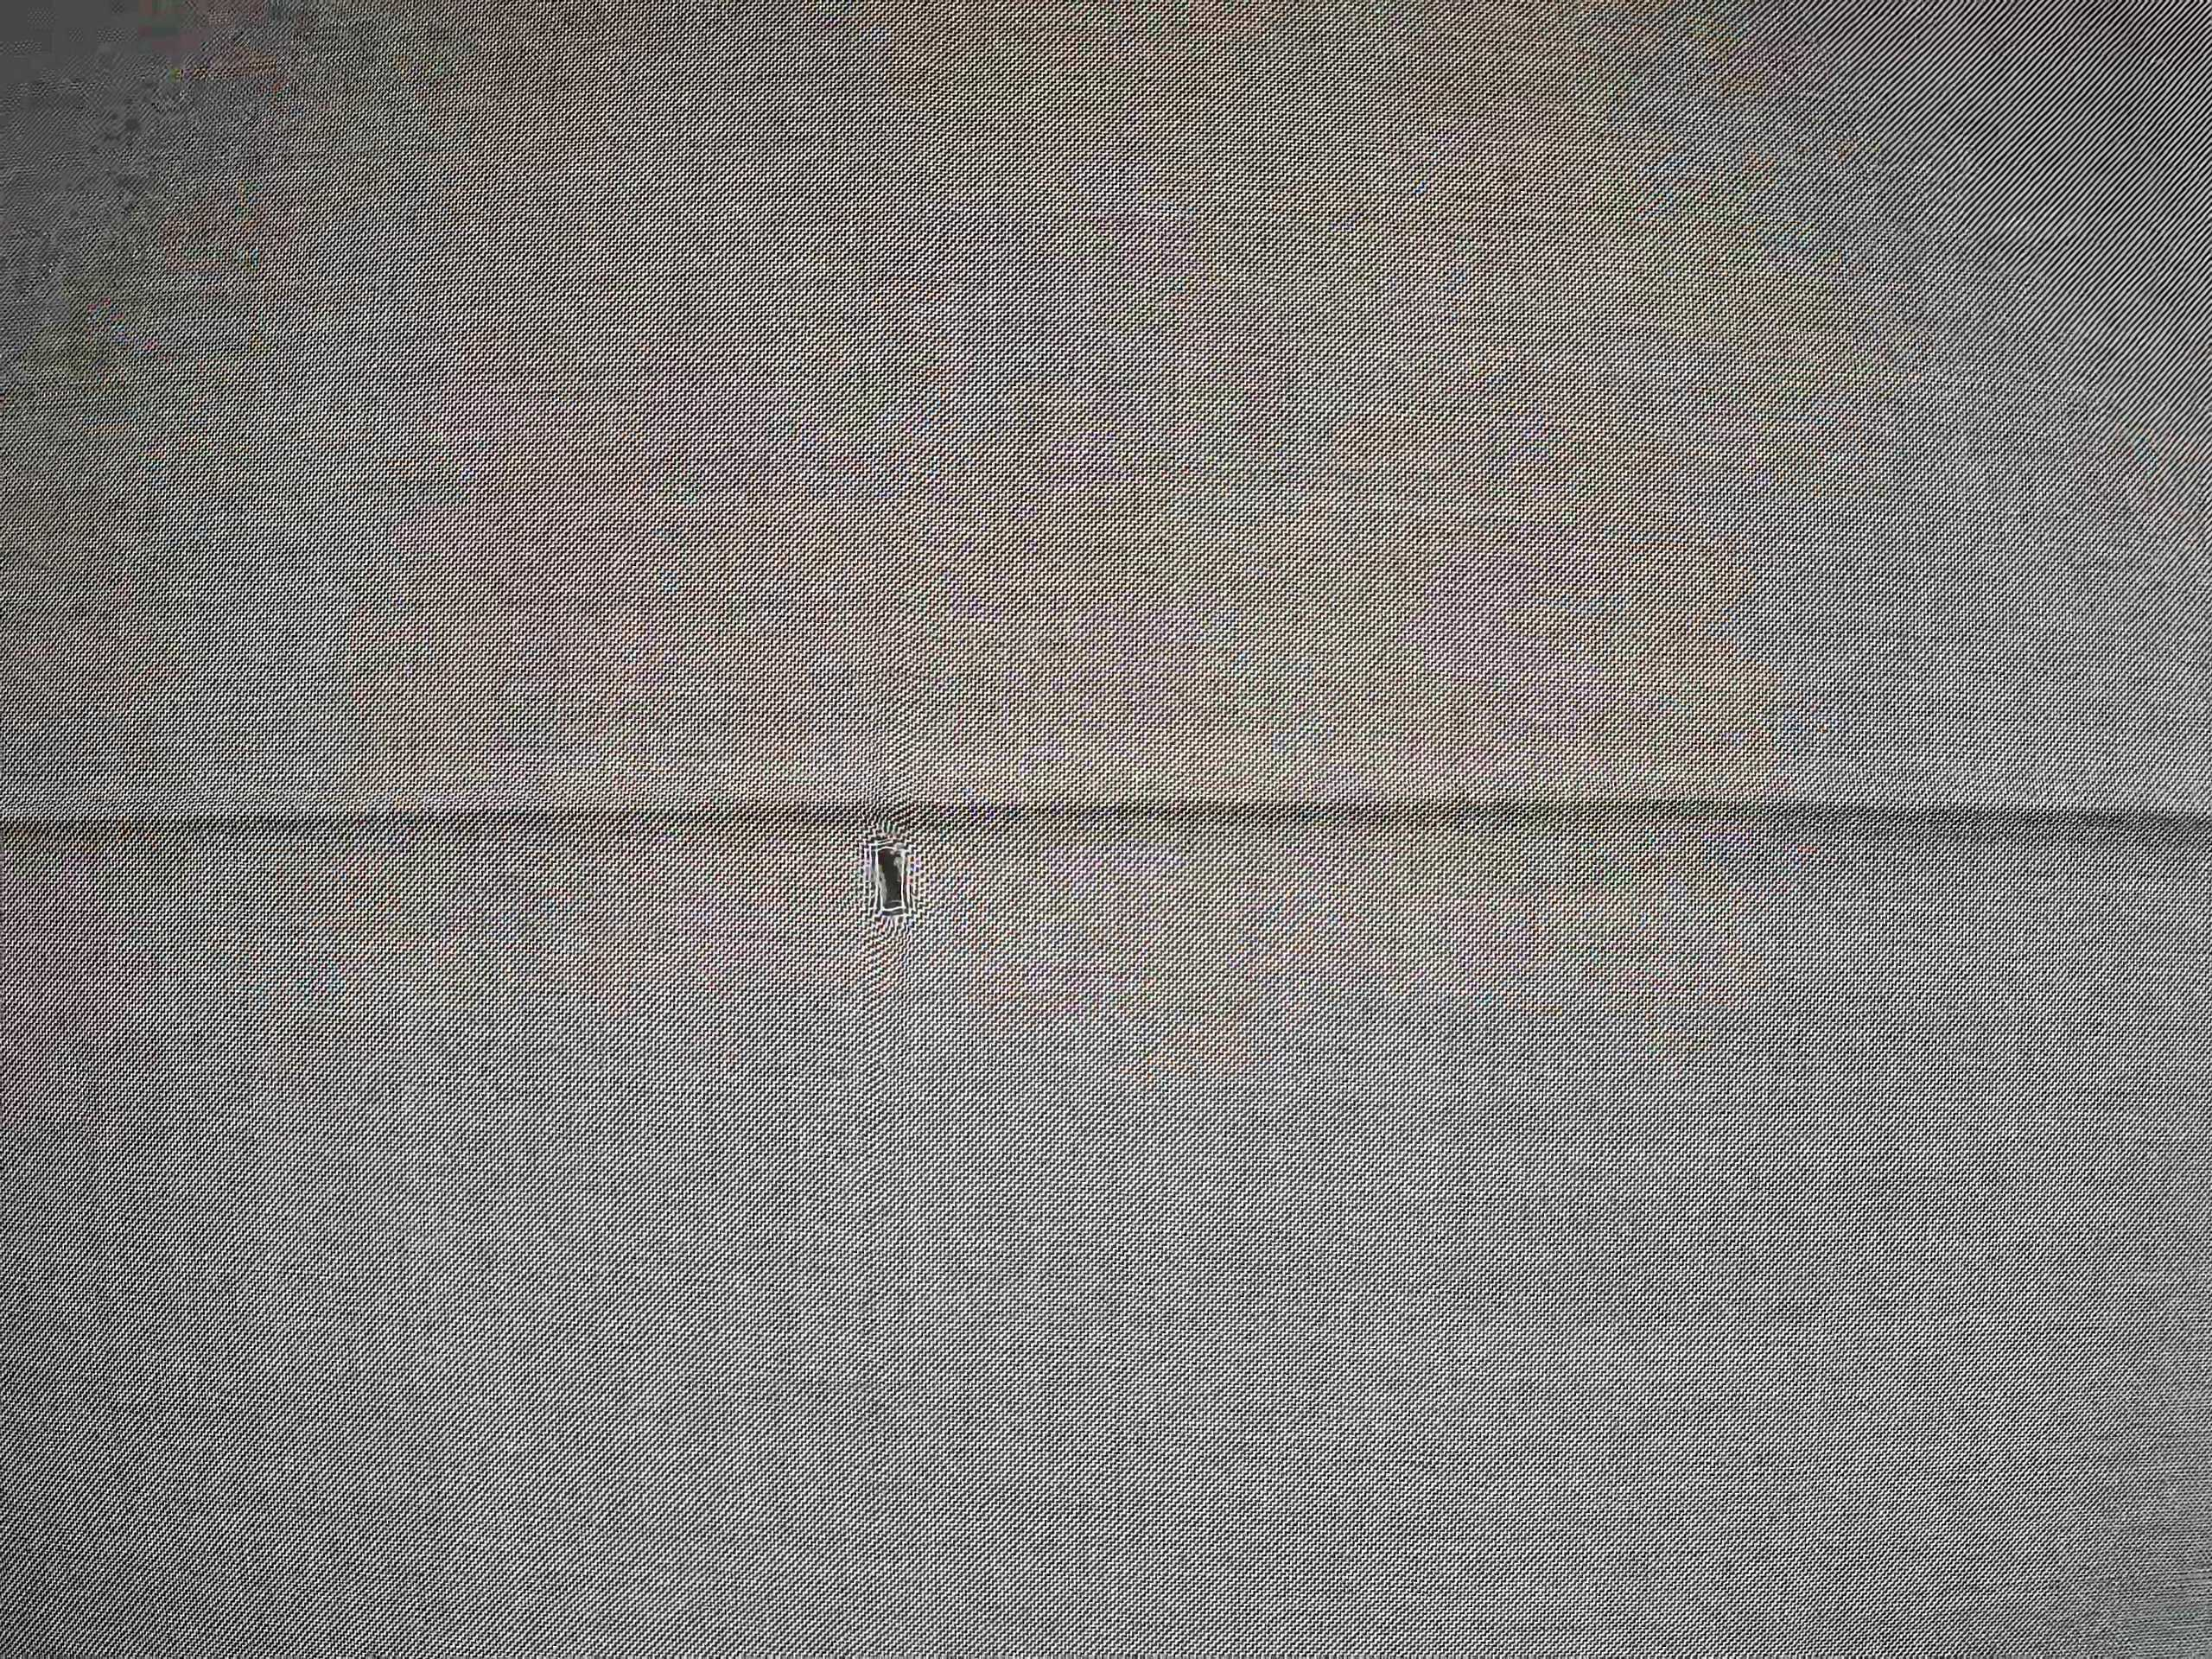brushed-hole: (838, 821, 944, 936)
